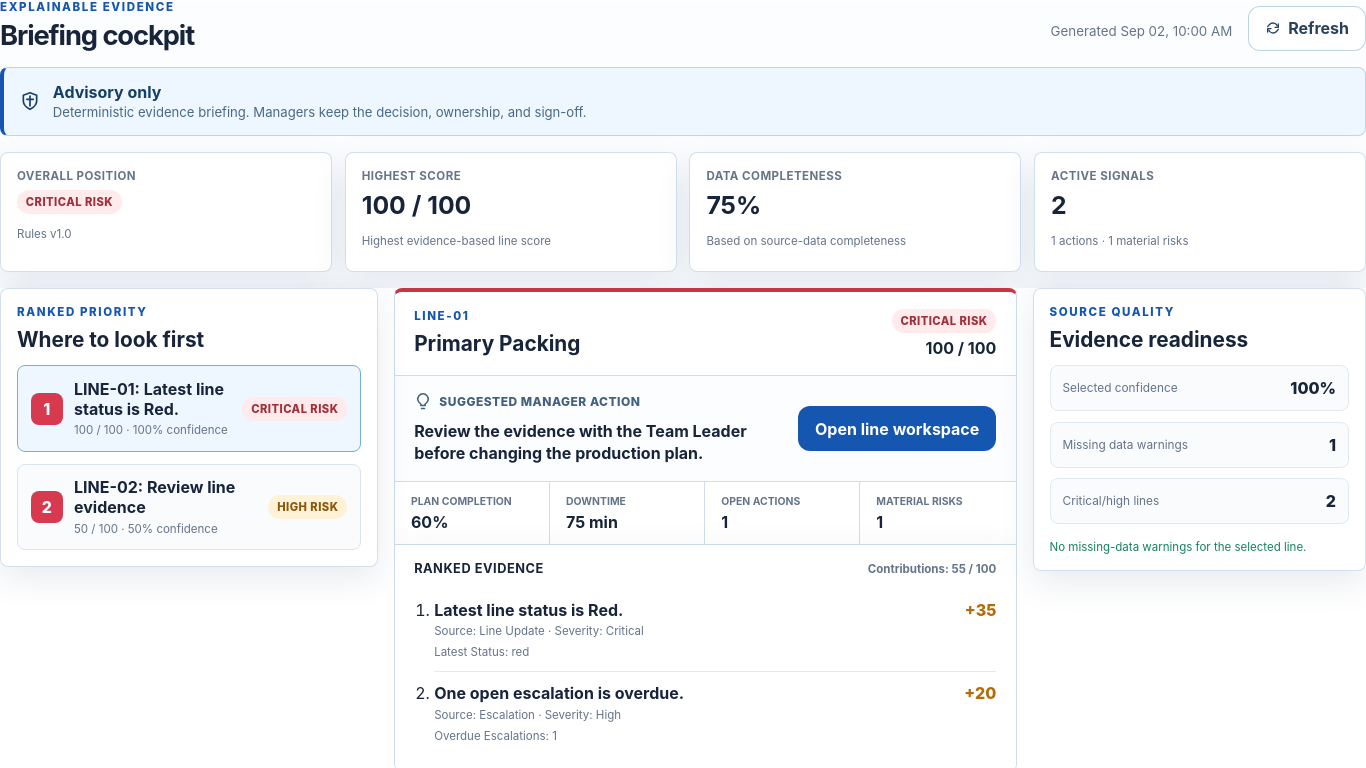
daily risk briefing panel › renders traceable scores, evidence, and missing-data warnings
This screenshot has width=1366, height=768.
Expected: the text "100 / 100" below "Highest score" is shown, [362, 190, 471, 220]
Expected: the text "Latest line status is Red." is shown, [434, 600, 623, 620]
Step 1. Click the button "LINE-02" → (47, 507), box [17, 464, 361, 550]
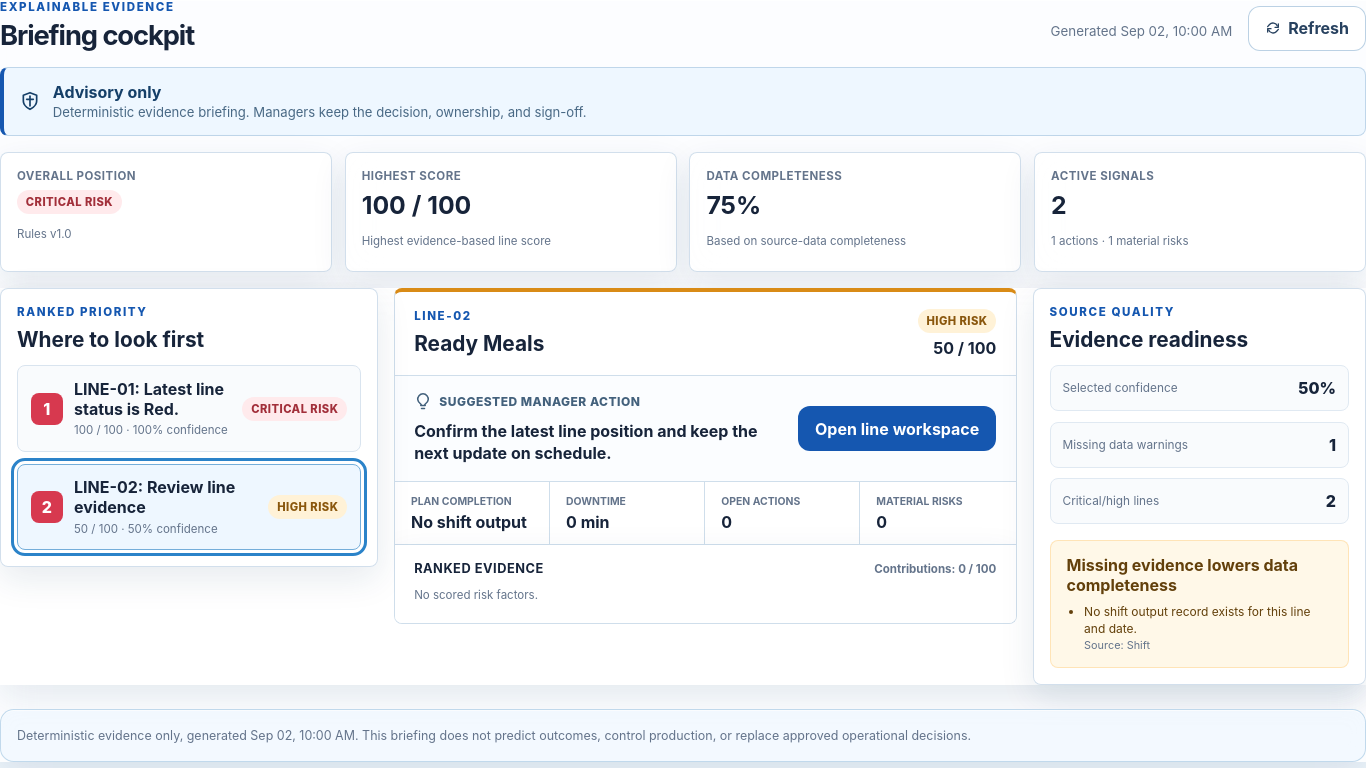
Expected: the text "does not predict outcomes" is shown, [355, 728, 971, 743]
Result: the text "Missing evidence lowers data completeness" is shown at [1066, 555, 1298, 595]
Result: the list item "No shift output record exists" is shown at [1084, 604, 1310, 636]
